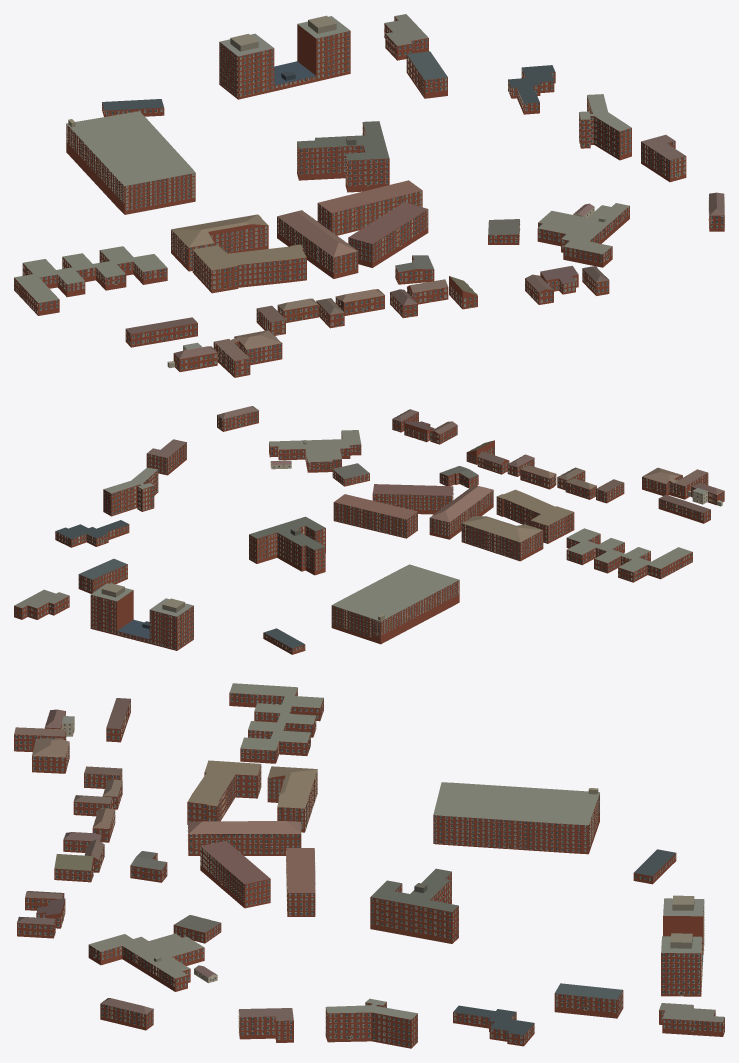
3 renders of one model, top to bottom at view 1: azimuth 30°, elevation 25°; view 2: azimuth 150°, elevation 25°; view 3: azimuth 270°, elevation 25°, orthographic. The views are drawn at different scales.
Parts seen in each view (by area): view 1: -4_-1_188498492_0; view 2: -4_-1_188498492_0; view 3: -4_-1_188498492_0.
Boxes of the visible parts, x1,y1,x2,y2 form: -4_-1_188498492_0: (14,14,724,377); -4_-1_188498492_0: (14,406,724,654); -4_-1_188498492_0: (14,683,724,1048).
Size of the model in its own units: 566 by 49.3 by 526.
